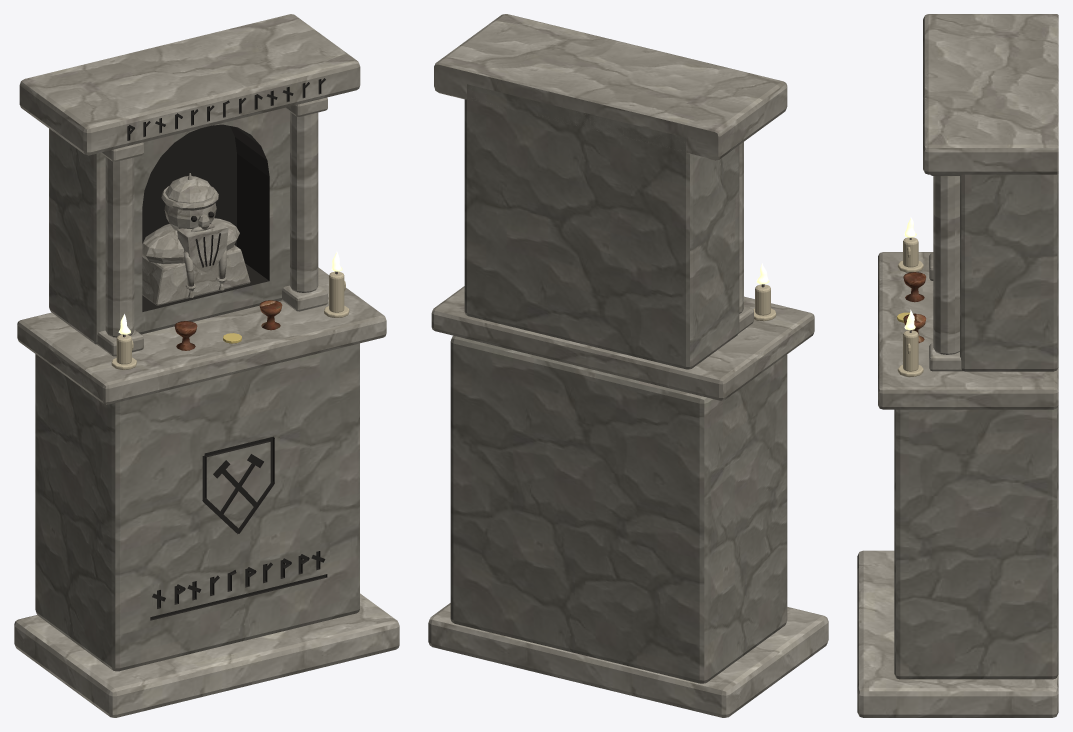
Rendered from qb_family_shrine.glb.
The picture shows the model from 3 angles, left to right: view 1: azimuth 30°, elevation 25°; view 2: azimuth 150°, elevation 25°; view 3: azimuth 270°, elevation 25°; orthographic projection. The views are drawn at different scales.
Visible parts, largest first — view 1: model; view 2: model; view 3: model.
Boxes of the visible parts, x1=… form: model: x1=14, y1=14, x2=399, y2=717; model: x1=428, y1=14, x2=828, y2=717; model: x1=857, y1=14, x2=1058, y2=717.
Bounding box in the file's own units: 0.82 × 1.53 × 0.49.
Materials: 9 (4 with a texture image).
